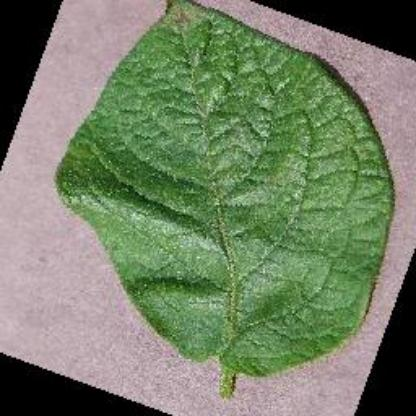Healthy-plant: (52, 0, 395, 394)
